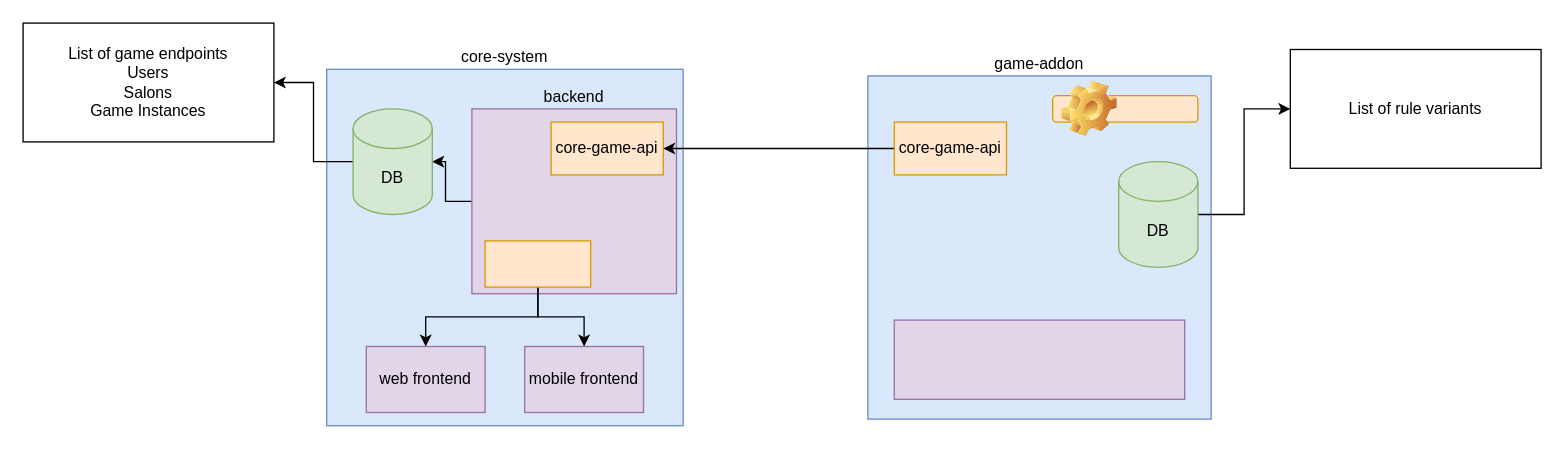
Image size: 1564x449. Some labels were removed from this diagram. Each missing label, with the centre of its shape:
core-ui-api: the point at 537,263
game-ui: the point at 1039,359
Rule Set: the point at 1124,108
